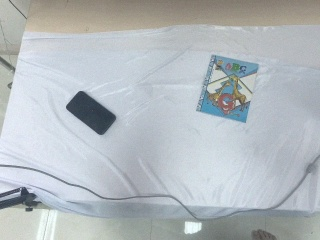book: (193, 52, 262, 125)
phone: (66, 91, 116, 135)
